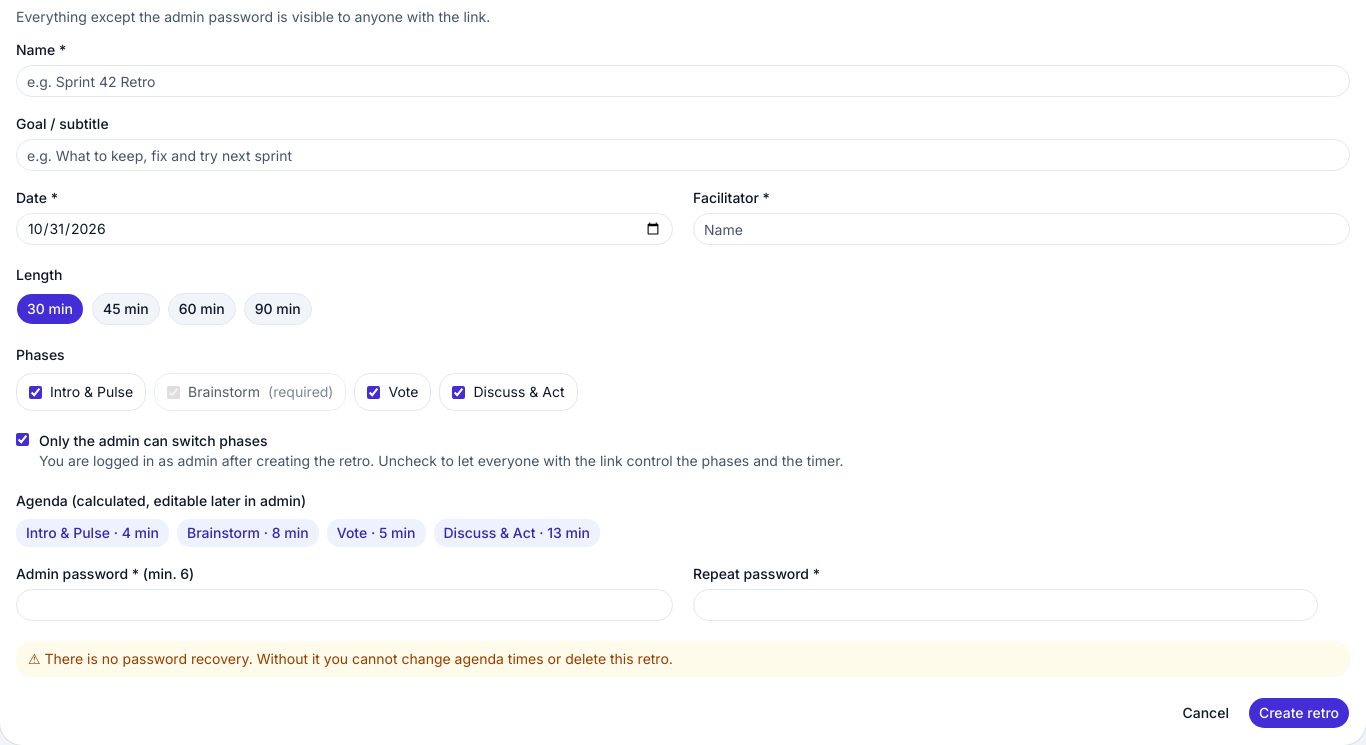
Test: NewRetroForm › lists all validation problems and does not submit
(page scrolled)
Click the button "Create retro": (1299, 713) [1248, 697, 1350, 729]
(page scrolled)
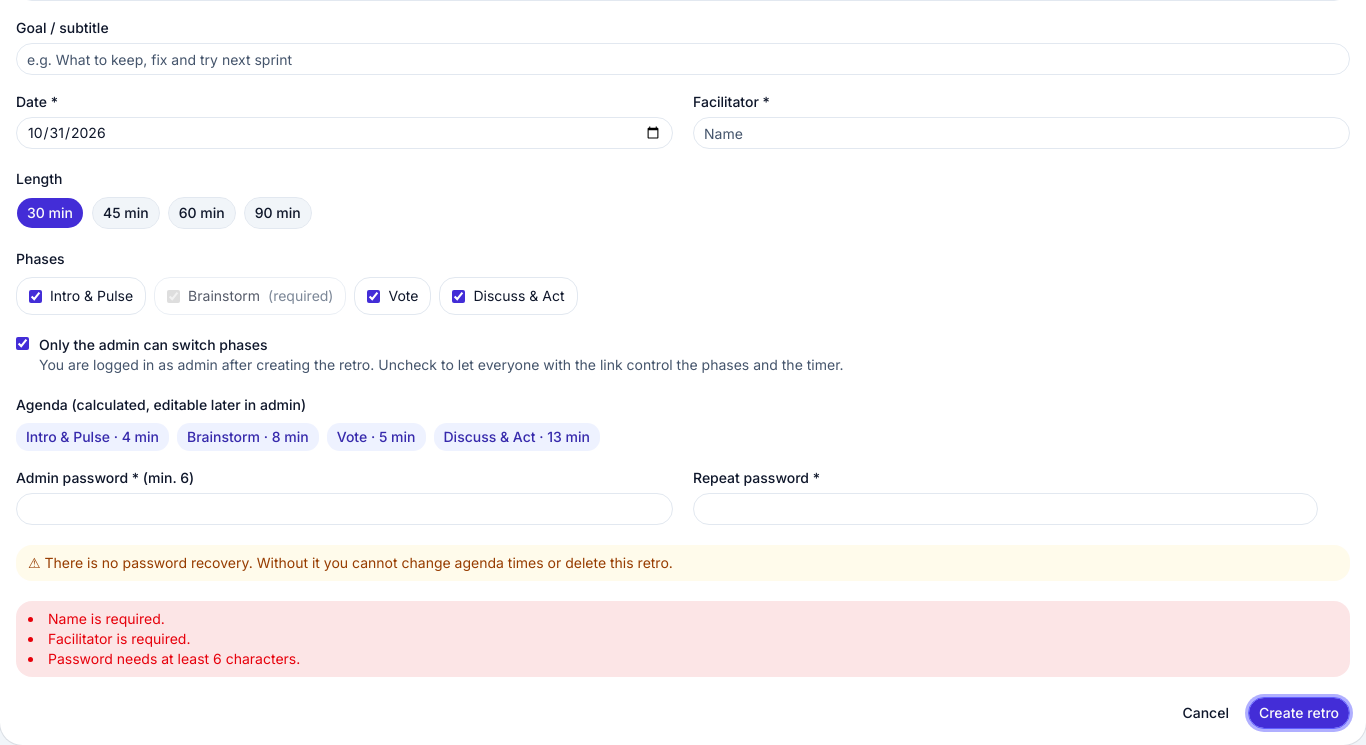
Expected: the message shows "Name is required.", [48, 610, 165, 627]
Expected: the message shows "Facilitator is required.", [48, 630, 190, 647]
Expected: the message shows "Password needs at least 6 characters.", [48, 650, 300, 667]
